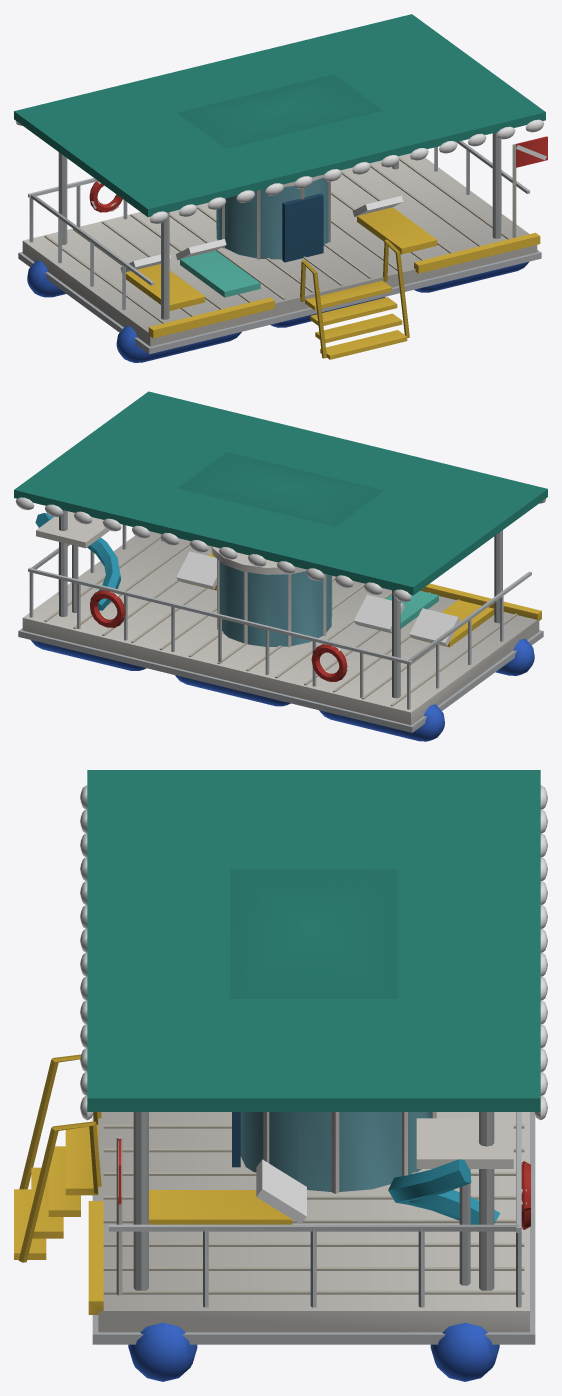
File: lm-s2au-gbr.glb
3 views of the same model, one above another, from view 1: azimuth 30°, elevation 25°; view 2: azimuth 150°, elevation 25°; view 3: azimuth 270°, elevation 25° (orthographic). The views are drawn at different scales.
Size of the model in its own units: 7.52 by 3.07 by 4.95.
